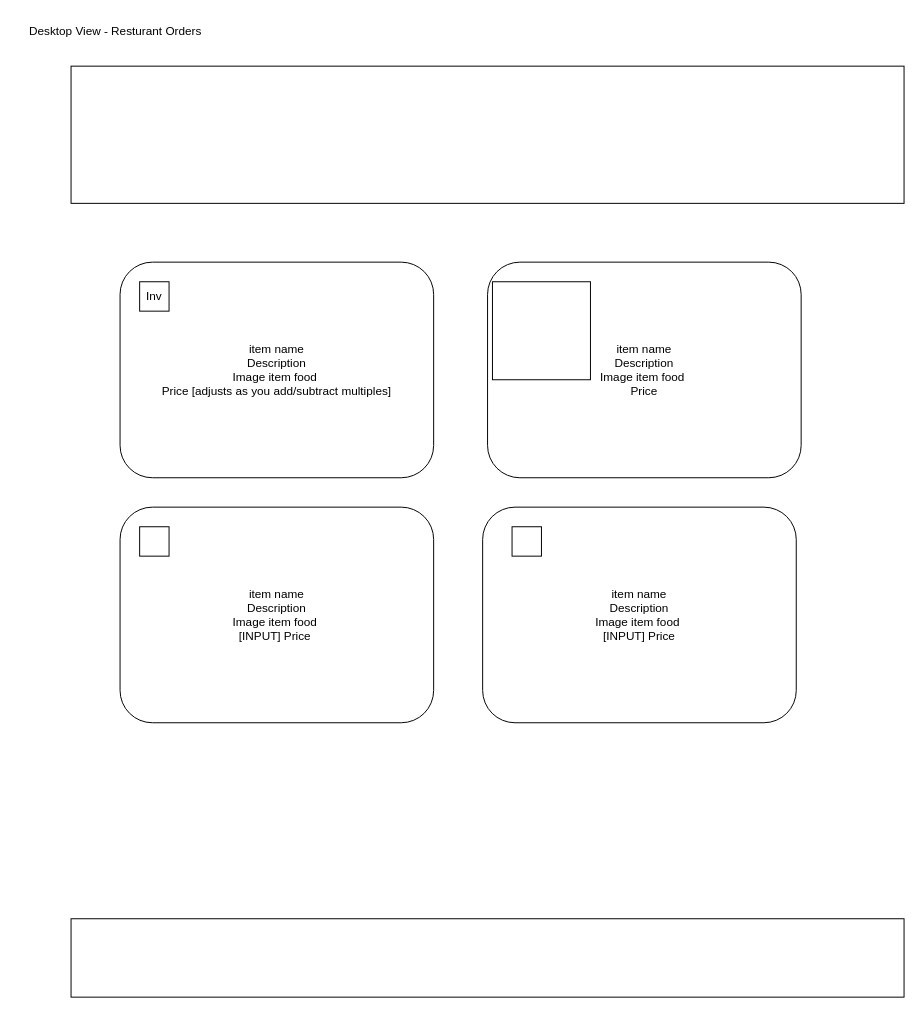
Image size: 921x1014. Some labels were removed from this diagram. The box of each missing label's shape, as (x1, y1, x2, y2) in pixels:
Nav bar: (70, 65, 904, 203)
Quantity - dropdown: (491, 281, 590, 380)
Restaurant info: (70, 918, 904, 997)
